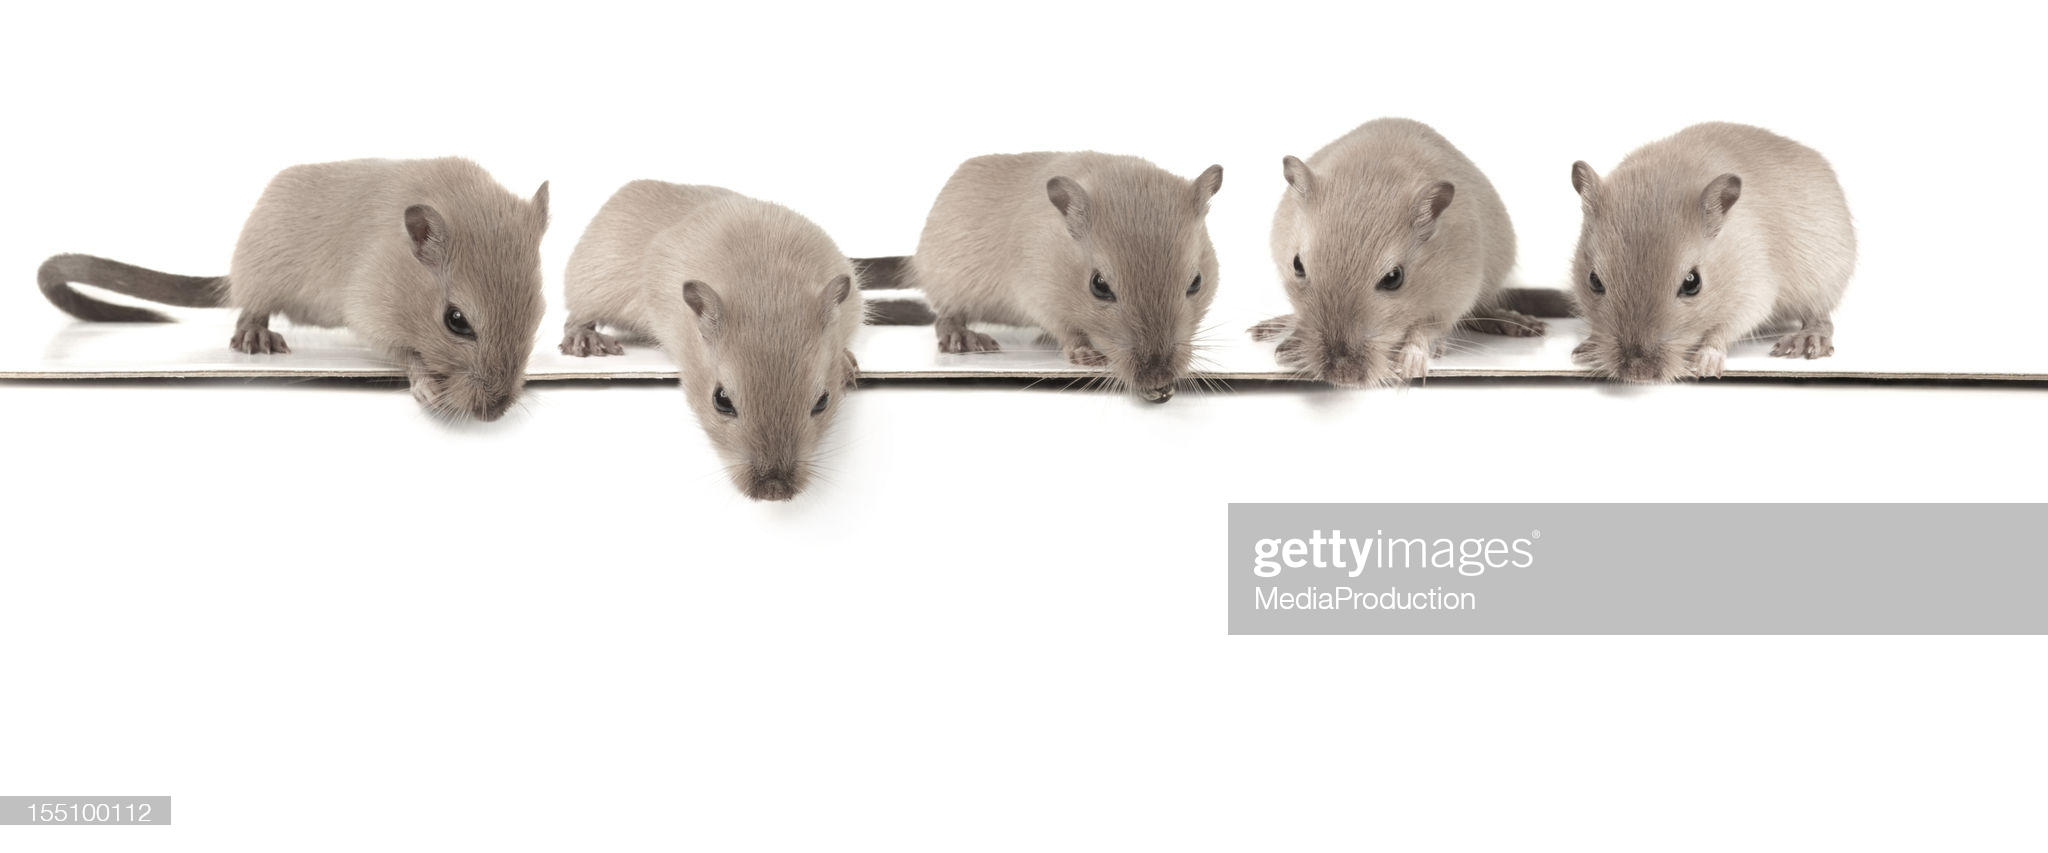mouse: (115, 121, 559, 442), (906, 140, 1256, 438), (1569, 94, 1881, 408), (590, 162, 865, 512), (1260, 90, 1539, 408)
